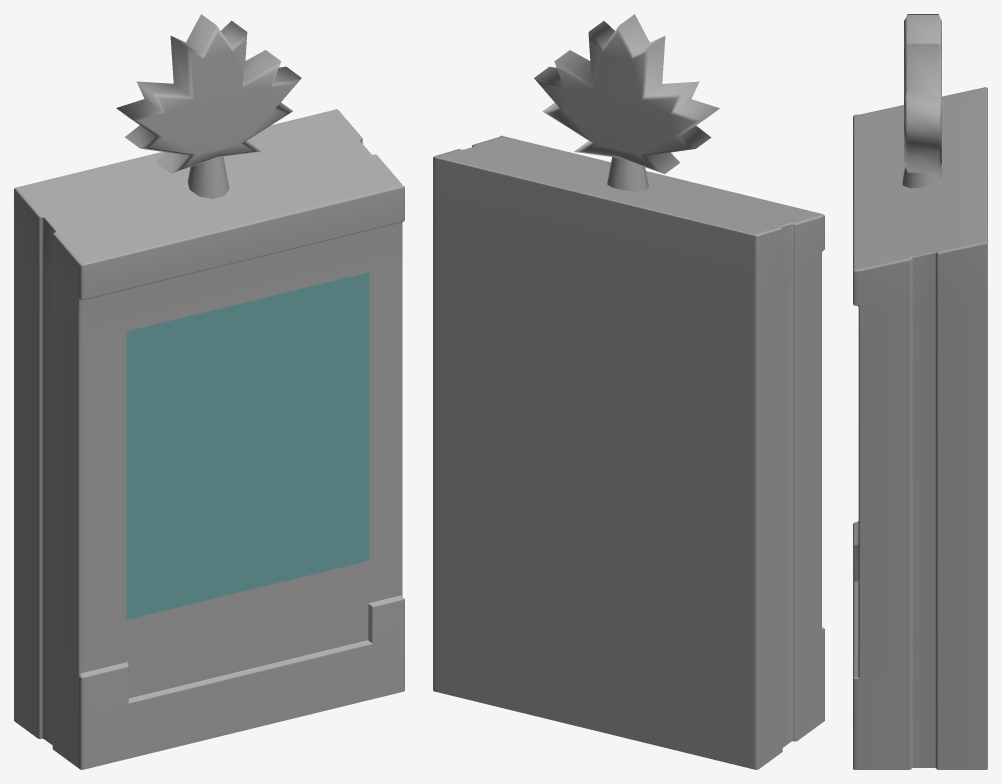
File: SM_Billboard_GameObjective_01.fbx
The picture shows the model from 3 angles, left to right: view 1: azimuth 30°, elevation 25°; view 2: azimuth 150°, elevation 25°; view 3: azimuth 270°, elevation 25°; orthographic projection.
Visible parts, largest first — view 1: SM_Billboard_GameObjective_01; view 2: SM_Billboard_GameObjective_01; view 3: SM_Billboard_GameObjective_01.
Part boxes in pixels (box(x1,y1,x2,y2)): SM_Billboard_GameObjective_01: box(14, 14, 404, 769); SM_Billboard_GameObjective_01: box(433, 14, 824, 769); SM_Billboard_GameObjective_01: box(853, 14, 987, 769).
Size of the model in its own units: 303 by 612 by 110.
